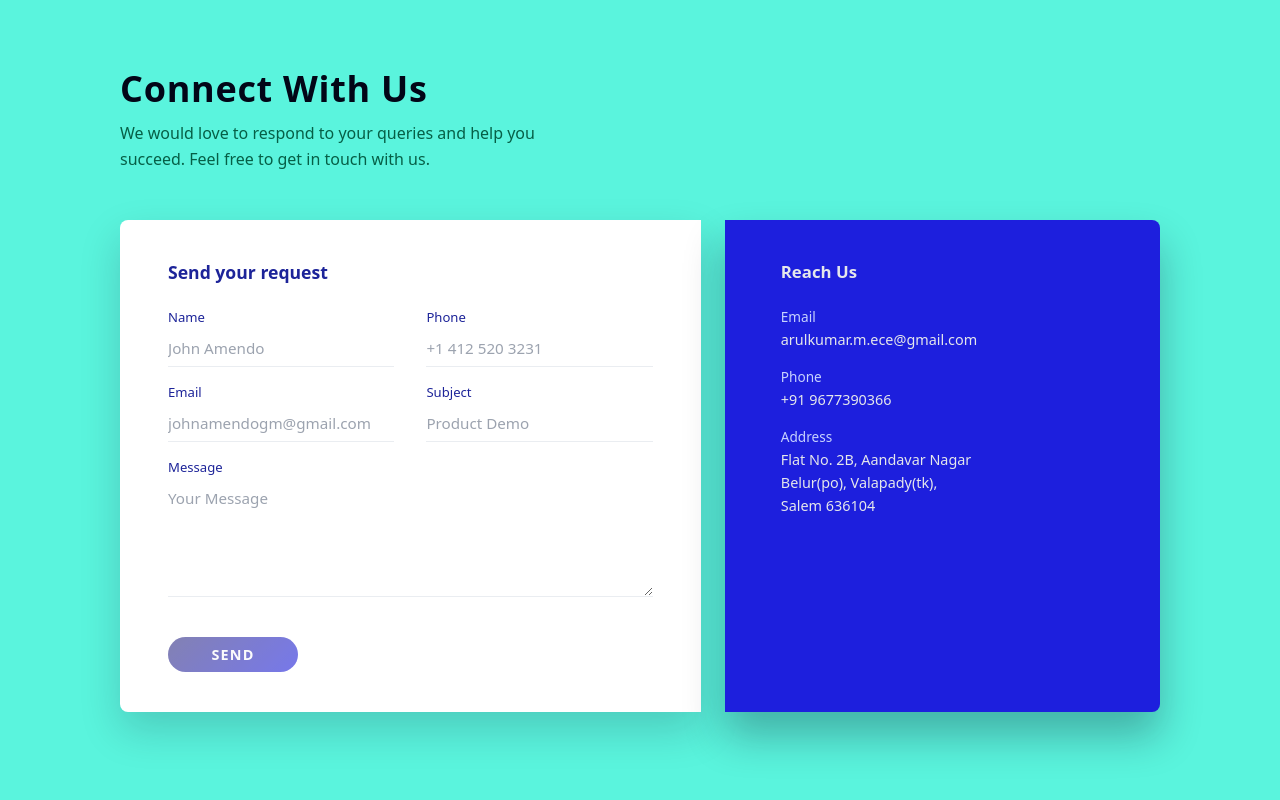
Test case: ContactPage validation › validates phone number when provided
The image size is (1280, 800).
Step 1. Type "John Doe" into the field labelled "Name" → (281,349), box [168,330,394,367]
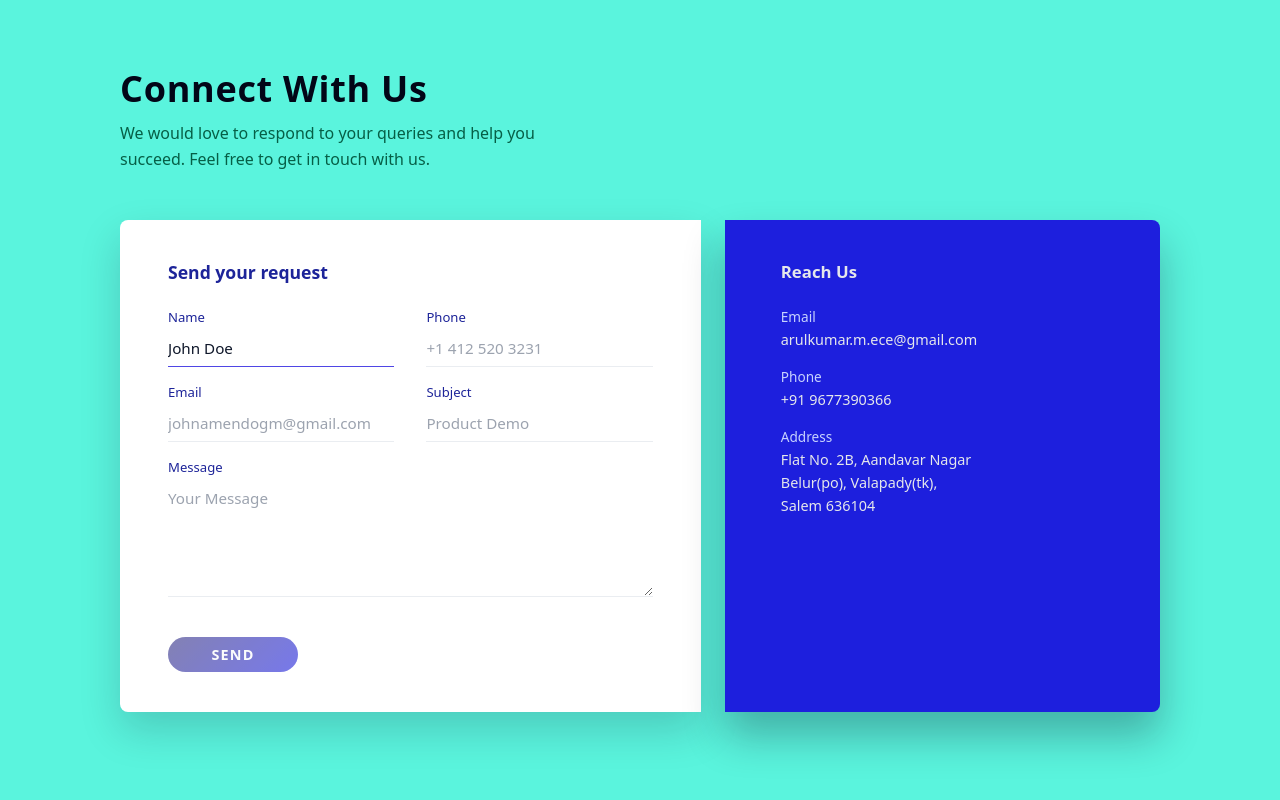
Step 2. Type "john@example.com" into the field labelled "Email" → (281,424), box [168,405,394,442]
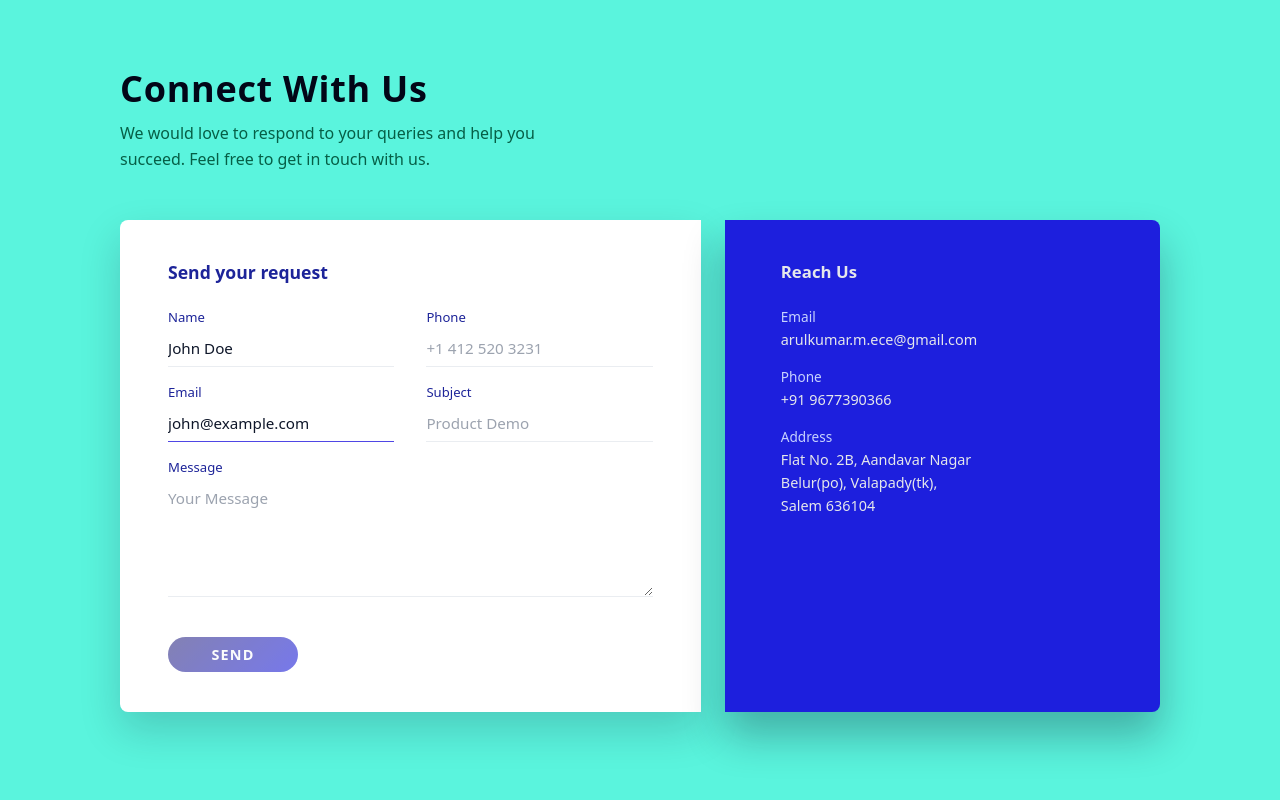
Step 3. Type "This is a valid message." into the text box labelled "Message" → (410,539), box [168,480,653,597]
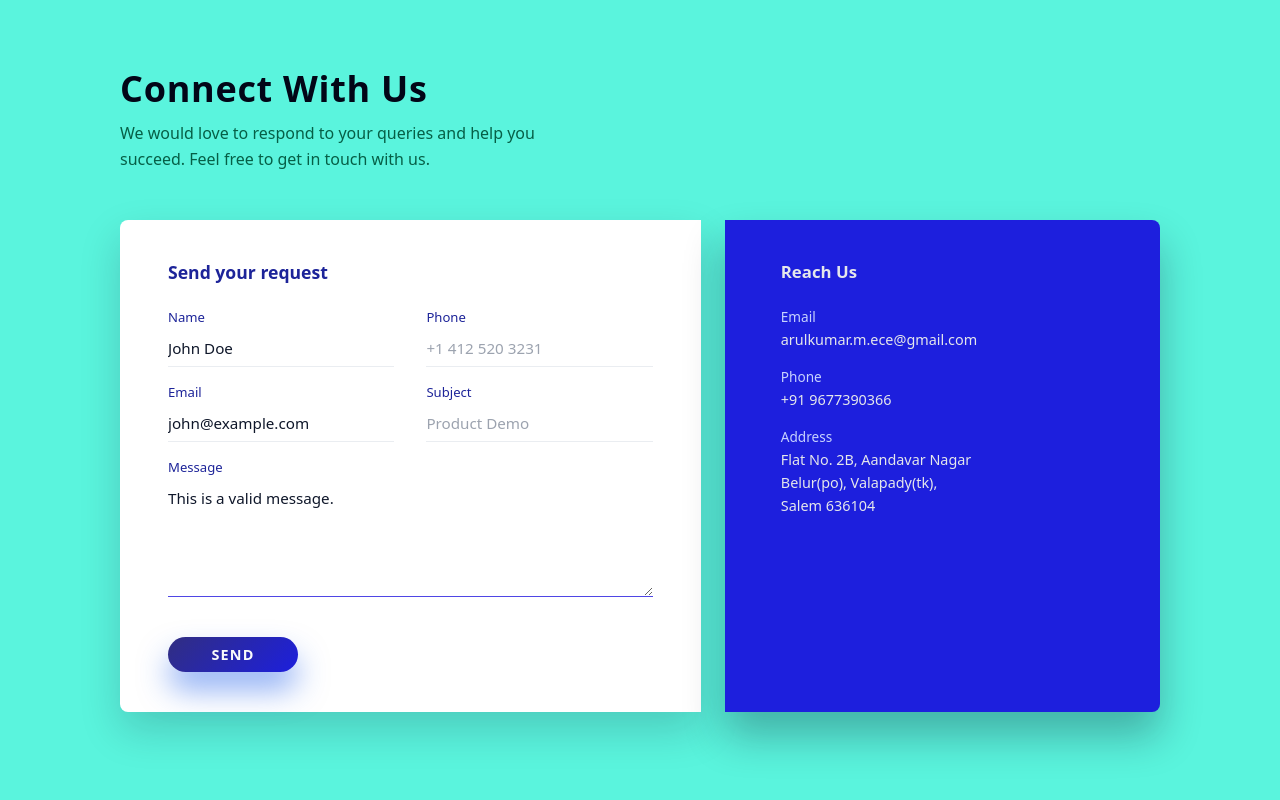
Step 4. Type "abc123" into the field labelled "Phone" → (540,349), box [426,330,653,367]
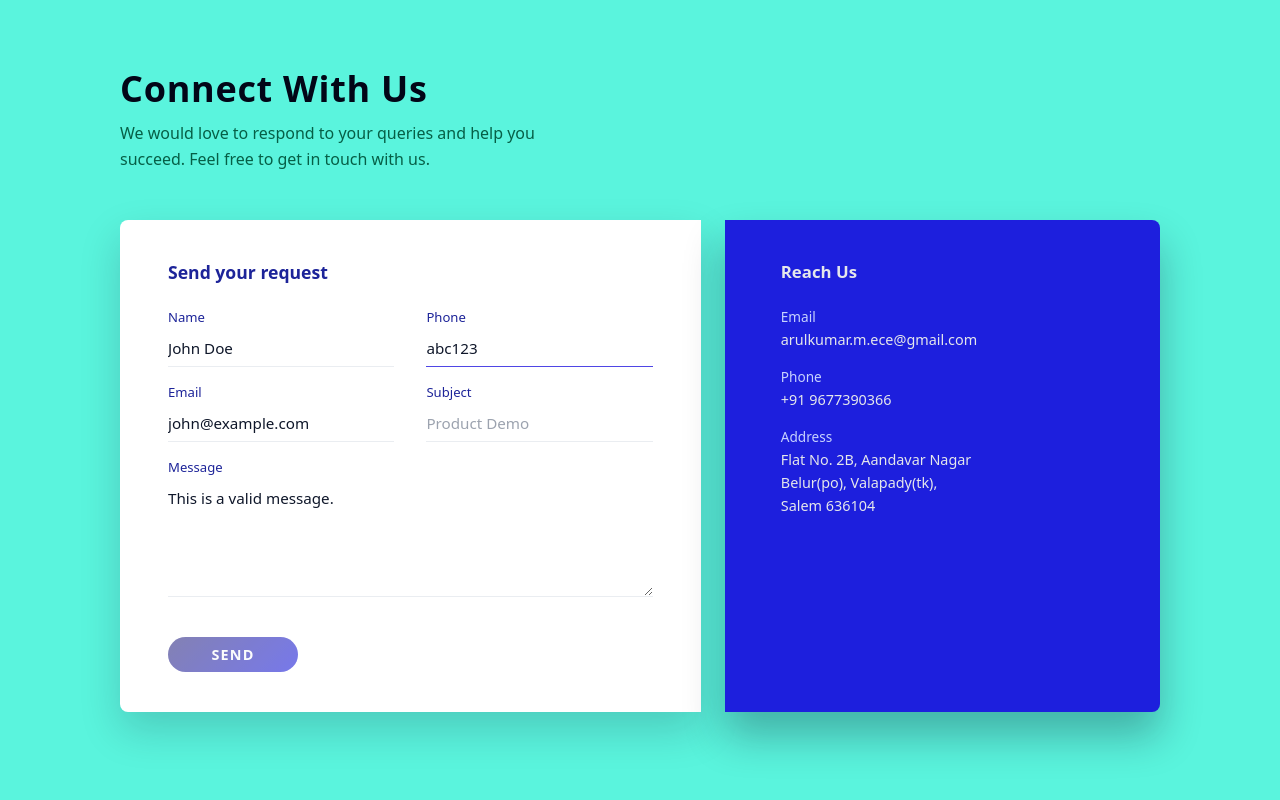
Step 5. Click the button "Send" → (233,655), box [168,637,298,672]
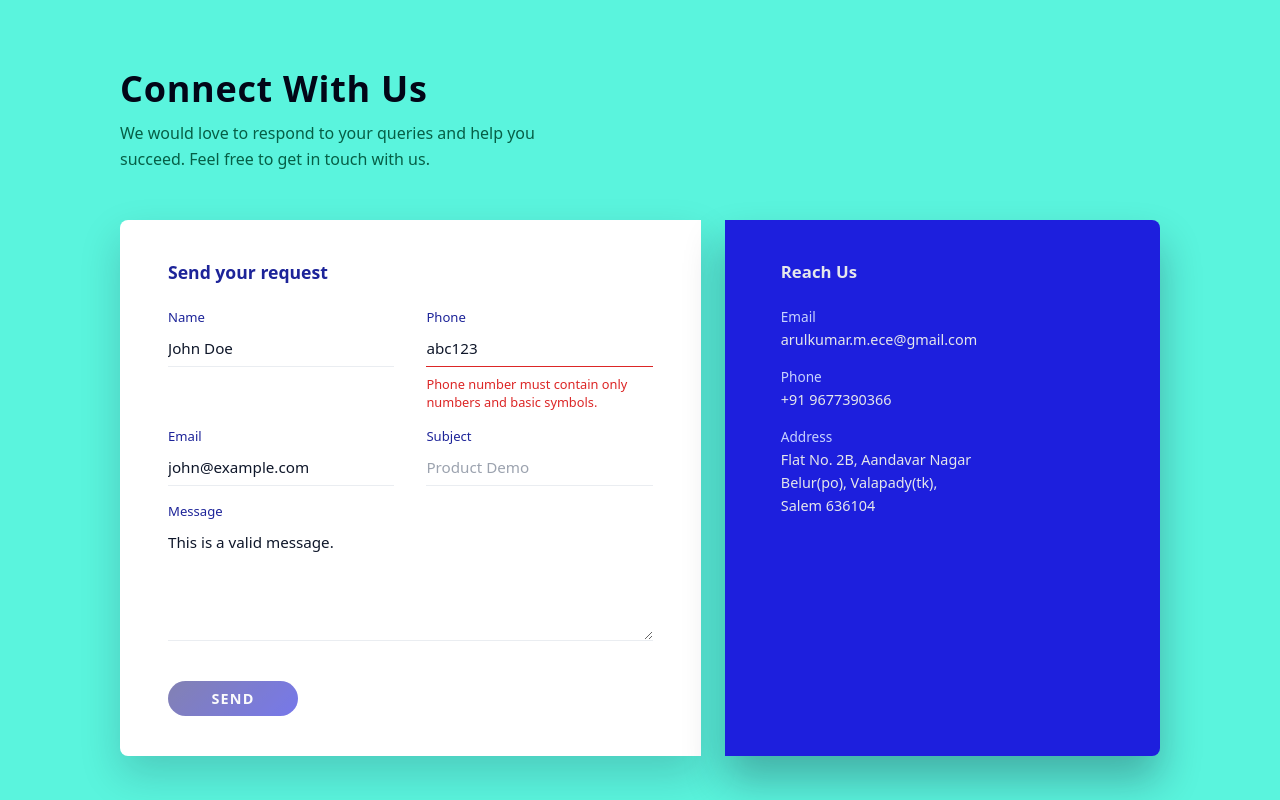
Expected: the text "Phone number must contain only numbers and basic symbols." is shown, [426,375,653,411]
